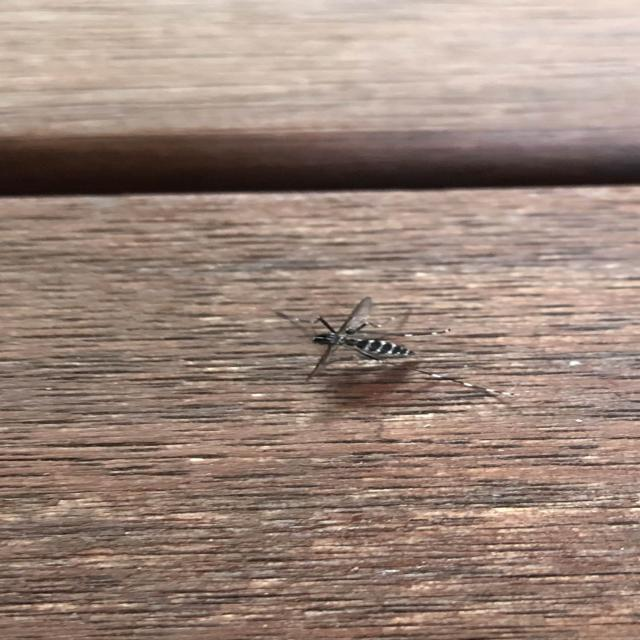albopictus: (262, 290, 537, 405)
